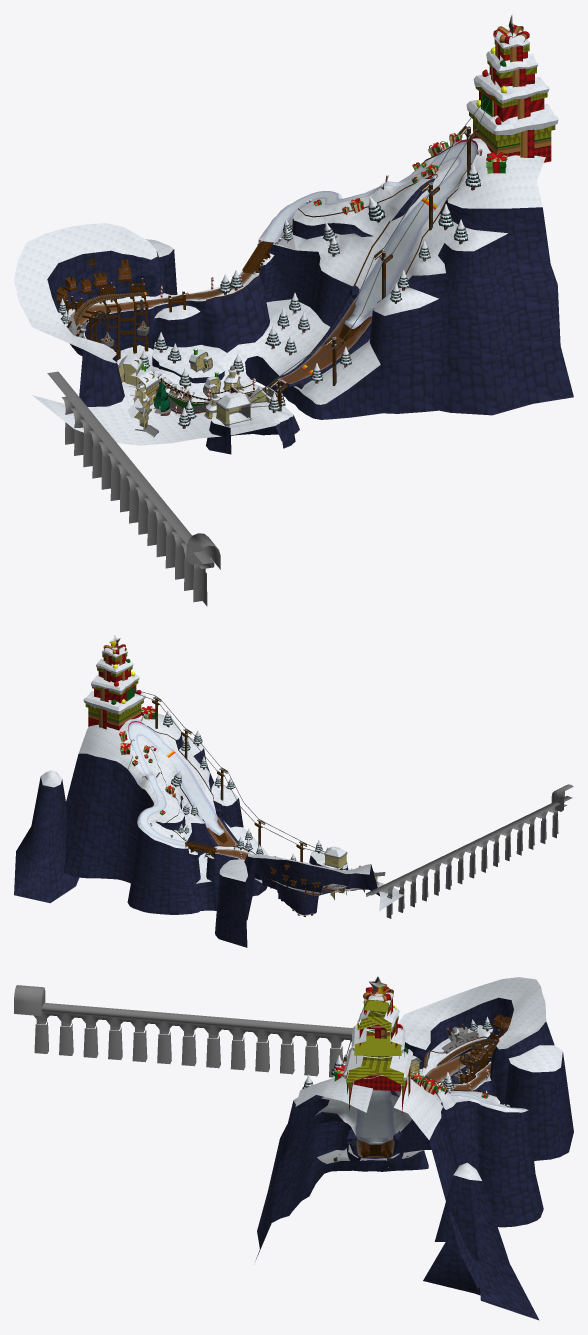
3 renders of one model, top to bottom at view 1: azimuth 30°, elevation 25°; view 2: azimuth 150°, elevation 25°; view 3: azimuth 270°, elevation 25°, orthographic. The views are drawn at different scales.
Parts seen in each view (by area): view 1: Polygon.090, Polygon.111, Polygon.115, Polygon.114, Polygon.110, Polygon.100, Polygon.112, Polygon.092, Polygon.097, Polygon.107, Polygon.093, Polygon.088 (+3 smaller); view 2: Polygon.090, Polygon.111, Polygon.115, Polygon.114, Polygon.100, Polygon.110, Polygon.092, Polygon.088, Polygon.112, Polygon.093, Polygon.097; view 3: Polygon.090, Polygon.111, Polygon.115, Polygon.100, Polygon.114, Polygon.112, Polygon.097, Polygon.088, Polygon.110.
Part boxes in pixels (x1,y1,x2,y2): Polygon.090: (47,178,573,454); Polygon.111: (14,14,558,445); Polygon.115: (47,321,270,606); Polygon.114: (261,141,477,328); Polygon.110: (57,163,480,428); Polygon.100: (427,24,555,178); Polygon.112: (70,272,371,411); Polygon.092: (94,98,489,411); Polygon.097: (56,241,367,350); Polygon.107: (69,330,270,427); Polygon.093: (69,19,513,414); Polygon.088: (104,133,507,341); Polygon.090: (14,735,380,947); Polygon.111: (40,635,403,915); Polygon.115: (324,784,573,918); Polygon.114: (128,722,224,846); Polygon.100: (85,644,156,750); Polygon.110: (163,710,351,886); Polygon.092: (129,689,324,862); Polygon.088: (118,706,175,815); Polygon.112: (206,815,335,895); Polygon.093: (110,639,342,900); Polygon.097: (185,831,320,896); Polygon.090: (255,997,573,1320); Polygon.111: (293,976,562,1180); Polygon.115: (14,985,478,1082); Polygon.100: (346,986,410,1113); Polygon.114: (355,1089,524,1144); Polygon.112: (356,1039,492,1157); Polygon.097: (360,1017,511,1158); Polygon.088: (334,1065,488,1098); Polygon.110: (302,1016,492,1157).
Size of what is drawn, in the model's own units: 121756 by 69627 by 109101.
Materials: 28 (28 with a texture image).
